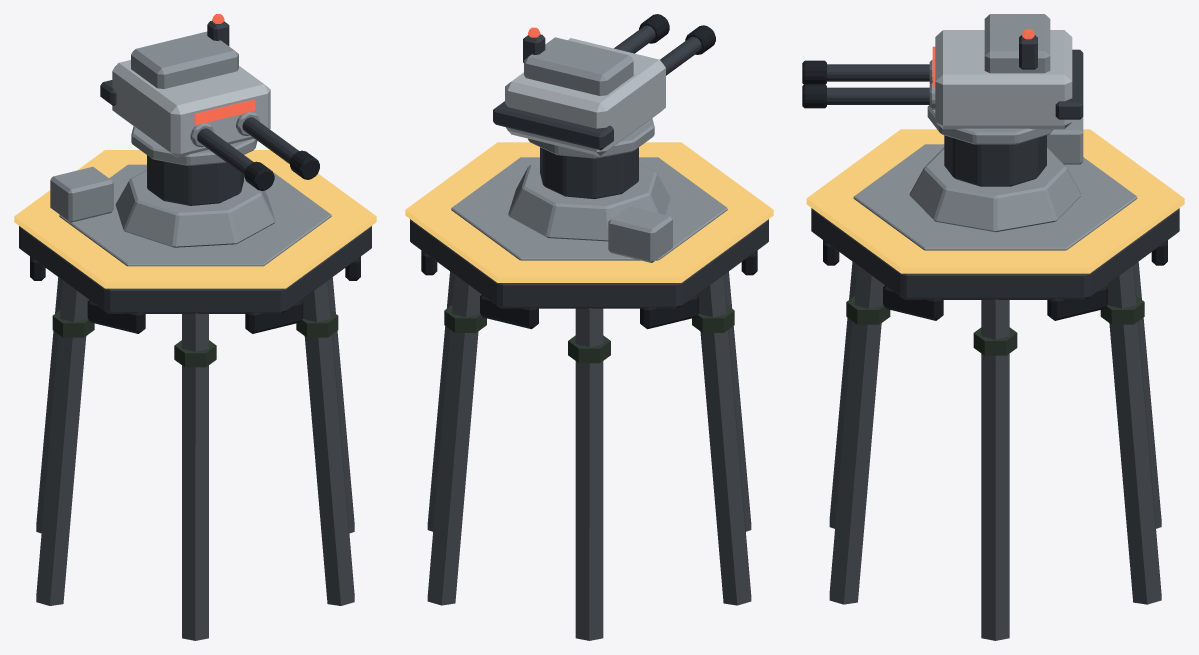
File: exo-seaturret.glb
The picture shows the model from 3 angles, left to right: view 1: azimuth 30°, elevation 25°; view 2: azimuth 150°, elevation 25°; view 3: azimuth 270°, elevation 25°; orthographic projection. The views are drawn at different scales.
Parts seen in each view (by area): view 1: body, head; view 2: body, head; view 3: body, head.
Boxes of the visible parts, x1,y1,x2,y2 form: body: (14,126,376,640); head: (100,14,319,190); body: (405,118,773,640); head: (493,14,715,155); body: (806,105,1184,640); head: (802,14,1083,129).
Bounding box in the file's own units: 7 × 11.15 × 6.97.
